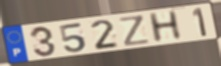1: (191, 7, 210, 38)
2: (90, 19, 121, 52)
3: (29, 25, 58, 58)
5: (57, 21, 88, 54)
H: (146, 9, 184, 45)
Z: (117, 13, 152, 47)
